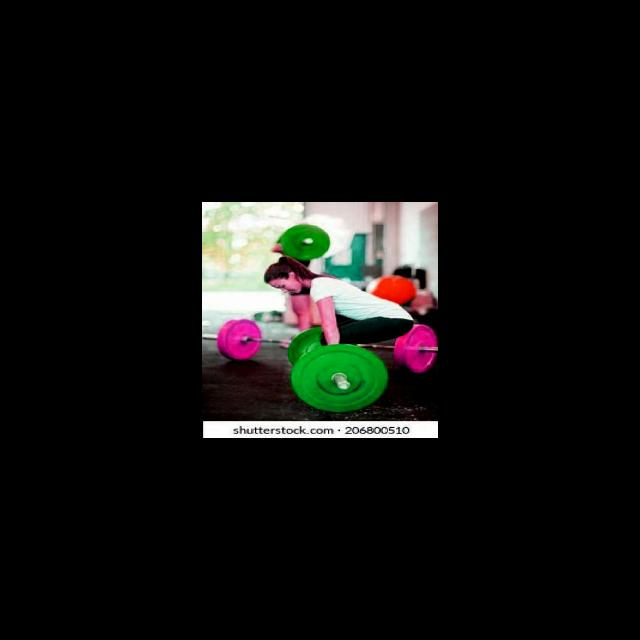barbell: (288, 343, 390, 414)
